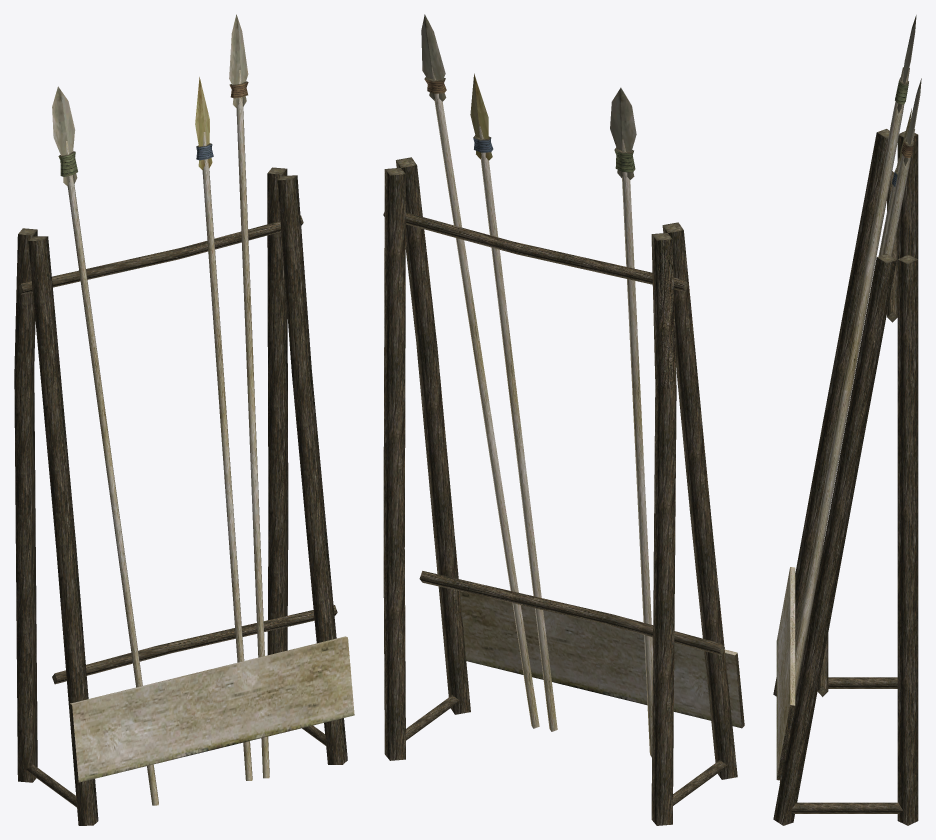
File: thm_dant_rack_spears_l1.fbx
3 views of the same model, side by side, from view 1: azimuth 30°, elevation 25°; view 2: azimuth 150°, elevation 25°; view 3: azimuth 270°, elevation 25° (orthographic). The views are drawn at different scales.
Visible parts, largest first — view 1: mesh_node; view 2: mesh_node; view 3: mesh_node.
Part boxes in pixels (x1,y1,x2,y2): mesh_node: [14, 14, 354, 825]; mesh_node: [383, 14, 744, 825]; mesh_node: [773, 15, 921, 825].
Size of the model in its own units: 0.9659 by 2.34 by 0.4313.
